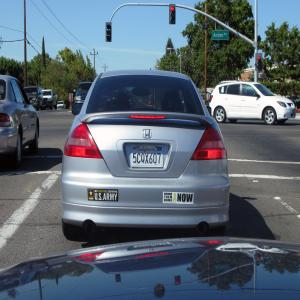Vehicle-registration-plate: (121, 138, 180, 187)
